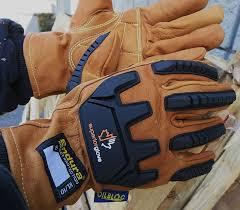gloves: (1, 59, 237, 210), (22, 1, 225, 99)
